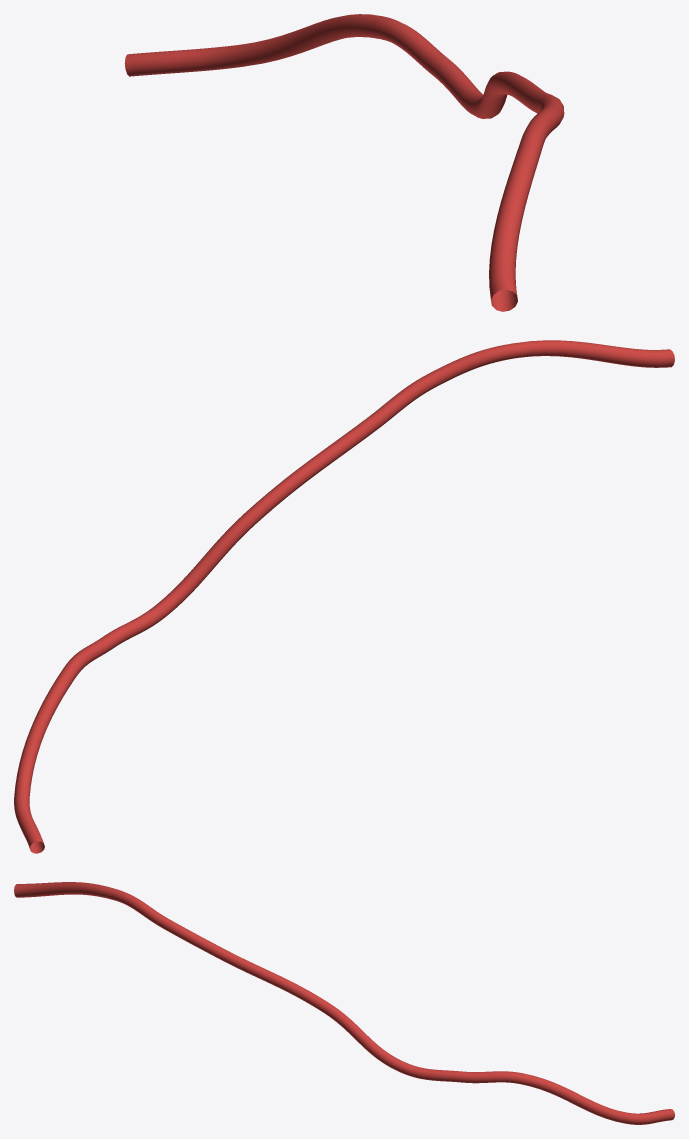
3 renders of one model, top to bottom at view 1: azimuth 30°, elevation 25°; view 2: azimuth 150°, elevation 25°; view 3: azimuth 270°, elevation 25°, orthographic. The views are drawn at different scales.
Parts seen in each view (by area): view 1: 左侧桡侧副动脉; view 2: 左侧桡侧副动脉; view 3: 左侧桡侧副动脉.
Boxes of the visible parts, left/top/right/bottom form: 左侧桡侧副动脉: left=124, top=14, right=564, bottom=311; 左侧桡侧副动脉: left=14, top=340, right=674, bottom=853; 左侧桡侧副动脉: left=14, top=882, right=674, bottom=1124.
Bounding box in the file's own units: 0.075 × 0.0681 × 0.2118.
